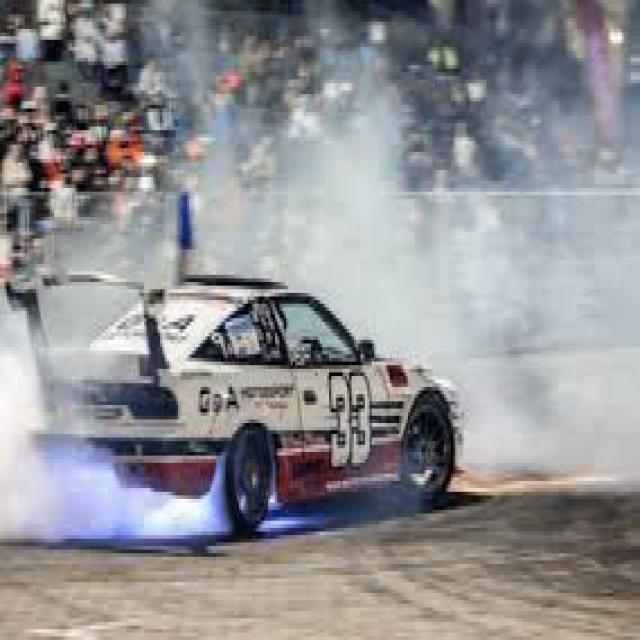smoke: (354, 181, 629, 387), (25, 445, 198, 535)
